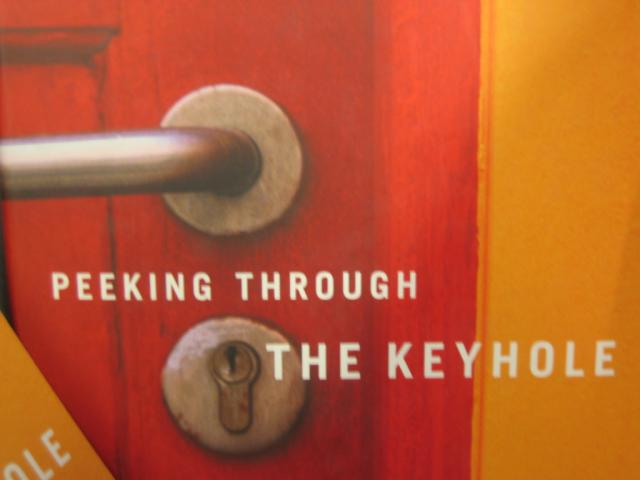Door-handle: (0, 84, 304, 236)
